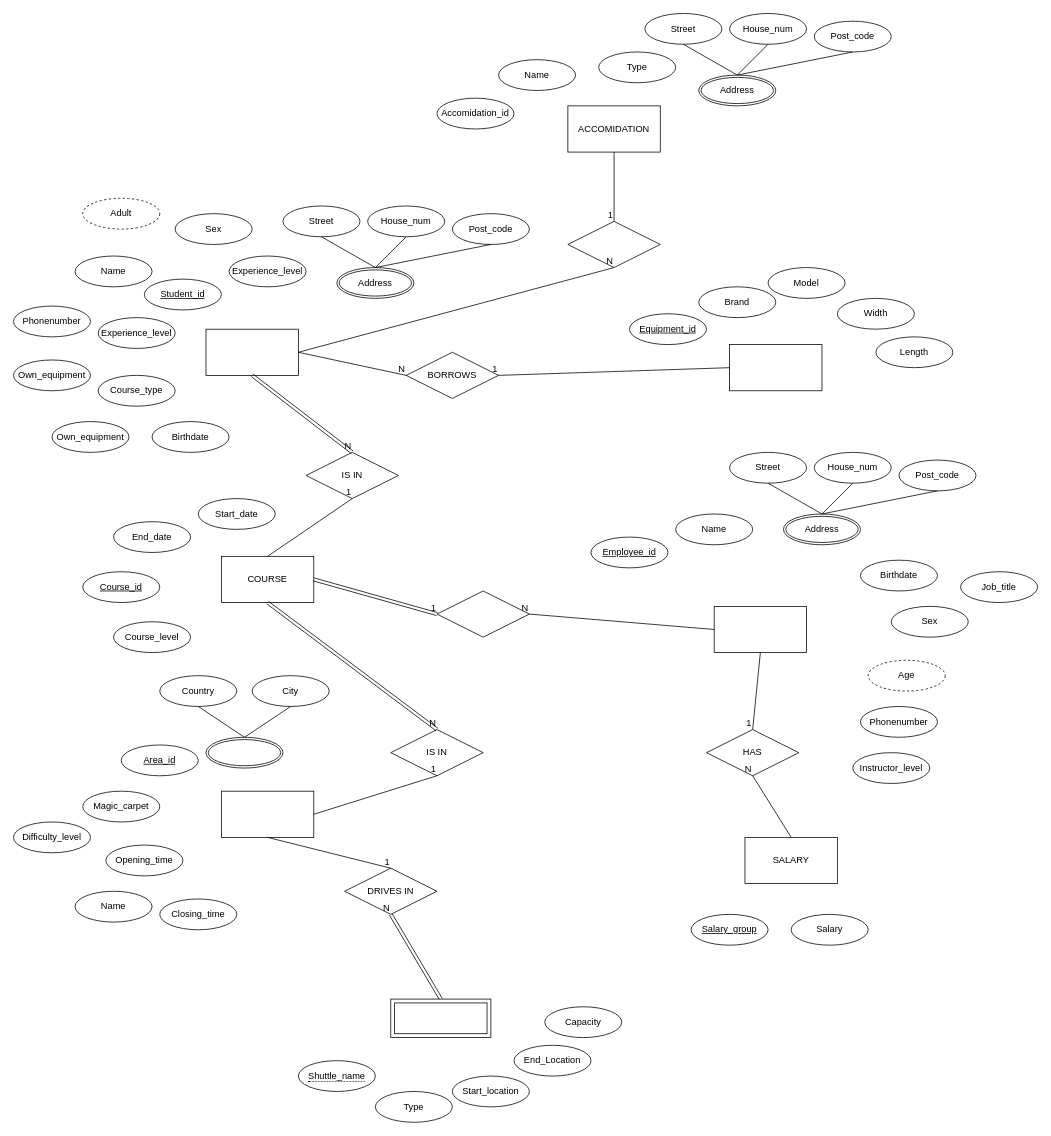
The diagram is 1051 pixels wide and 1136 high, and some of its shapes have lost their labels. Here are the shapes that lost their labels. From the top down, the centre of each, then its label:
At pixel 613 244: "STAYS AT".
At pixel 251 351: "STUDENT".
At pixel 775 367: "EQUIPMENT".
At pixel 482 613: "SUPERVISES".
At pixel 760 629: "EMPLOYEE".
At pixel 244 752: "Location".
At pixel 267 813: "AREA".
At pixel 440 1018: "SHUTTLE".
